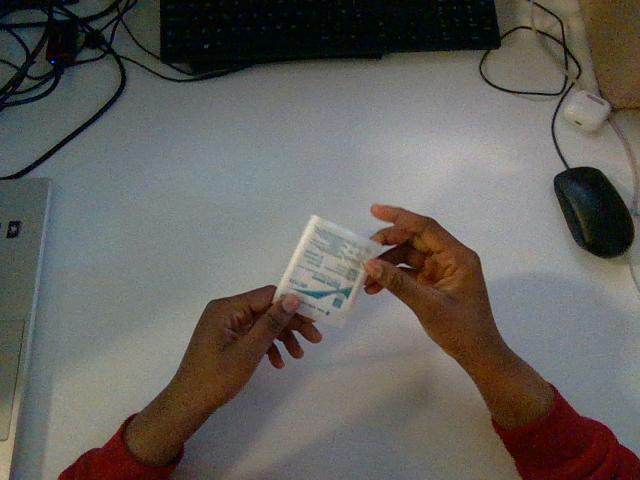gauze: (274, 215, 382, 325)
